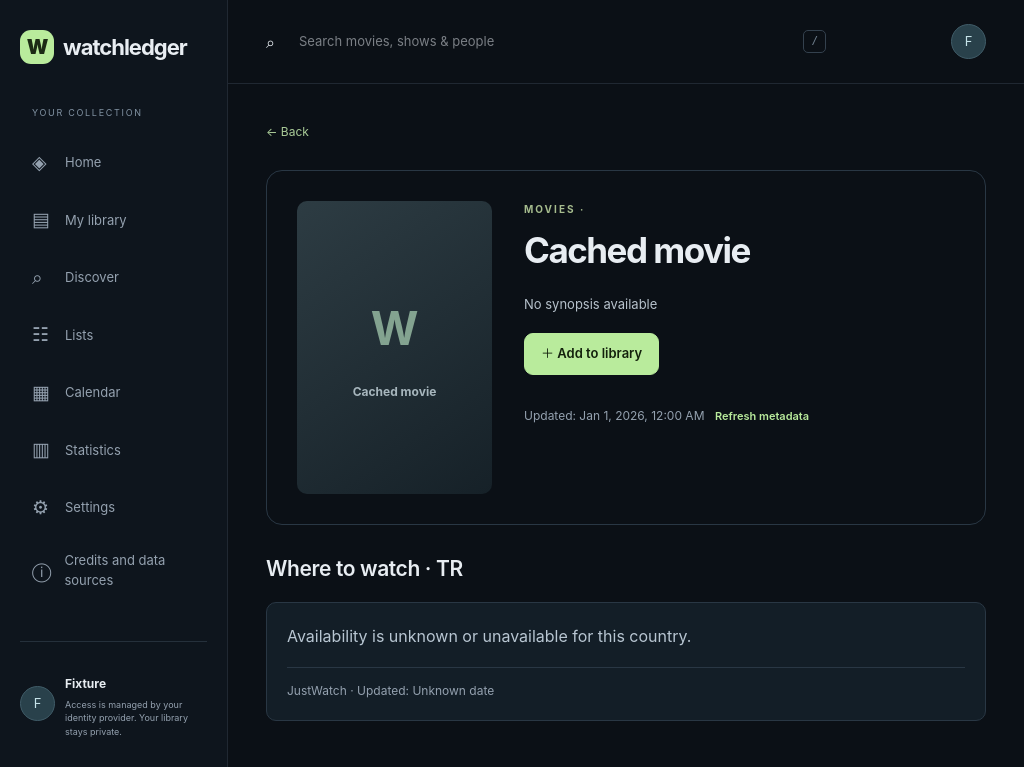
Test: manual refresh retains the provider warning and original timestamp until a successful retry
This screenshot has width=1024, height=767.
Expected: the heading "Cached movie" is shown, [524,228,750,270]
What coordinates should you click on to do the following:
click the button "Refresh metadata"
I would click on:
 (762, 416)
Its box is [709,400,815,432].
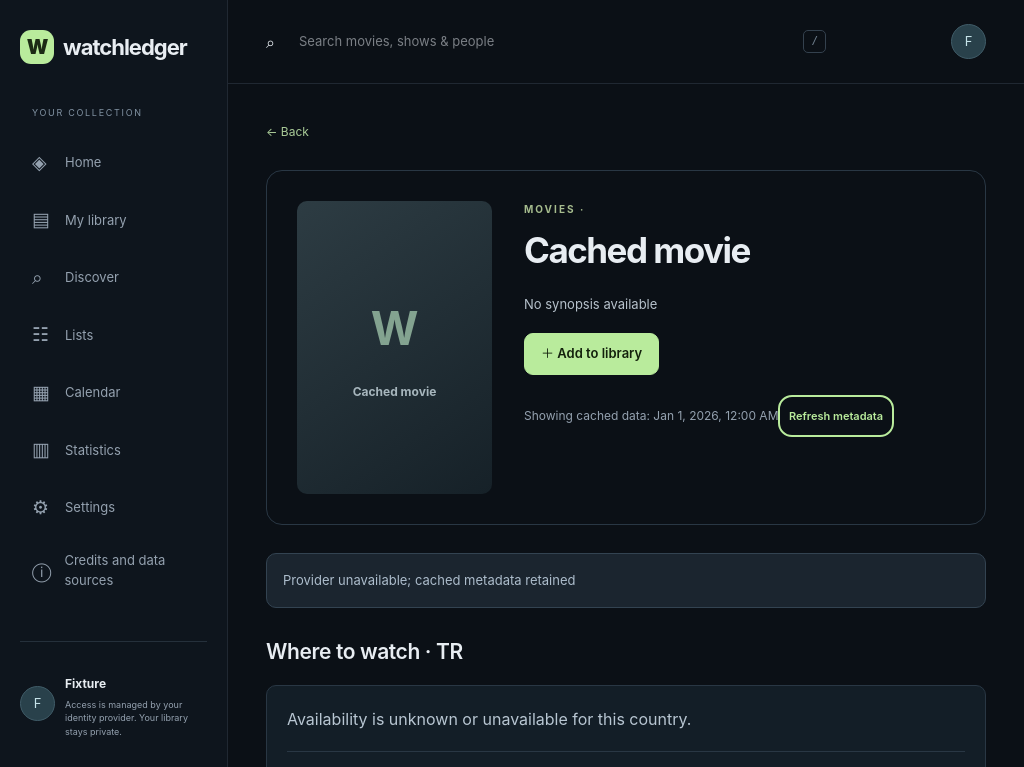
Expected: the text "Provider unavailable; cached metadata retained" is shown, [266,552,986,608]
Expected: the text "Showing cached data: Jan 1, 2026, 12:00 AM" is shown, [524,408,778,423]
What coordinates should you click on to do the following:
click the button "Refresh metadata"
I would click on:
 (836, 416)
Its box is [783,400,889,432].
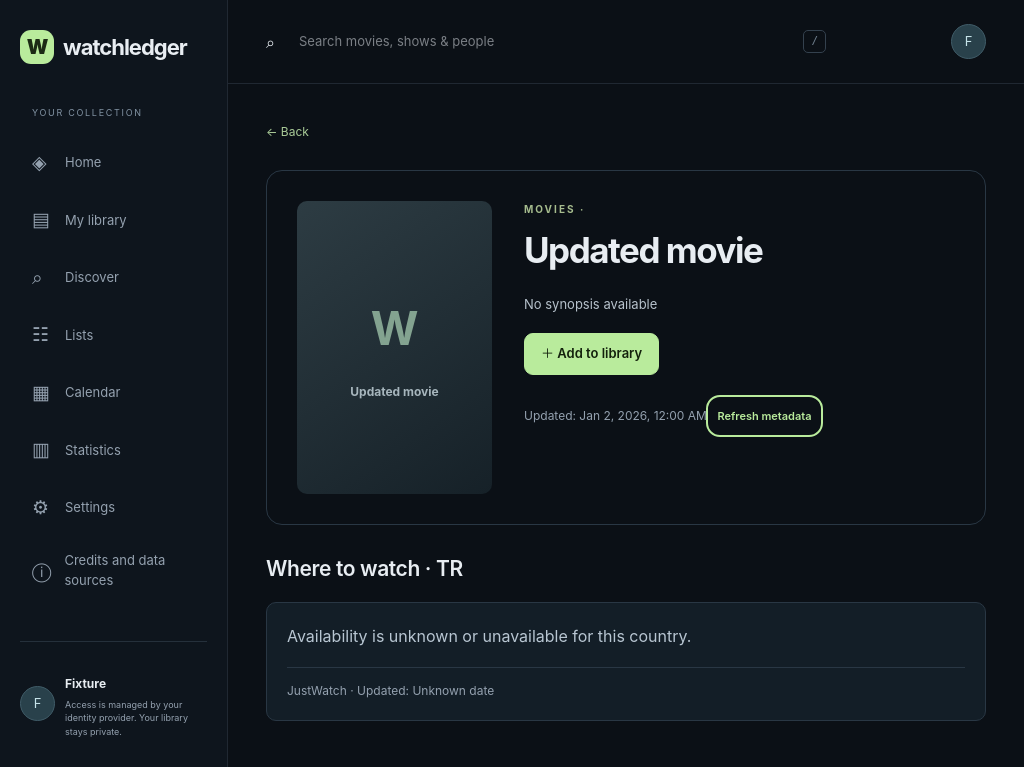
Expected: the heading "Updated movie" is shown, [524,228,762,270]
Expected: the text "Provider unavailable; cached metadata retained" is gone
Expected: the text "Showing cached data" is gone
